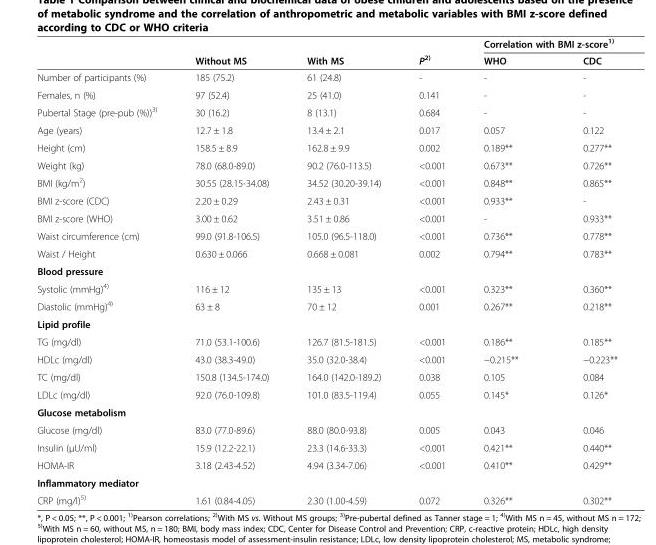table: (36, 36, 616, 505)
table column: (36, 36, 175, 505), (175, 36, 287, 505), (287, 36, 399, 505), (464, 36, 549, 505), (549, 36, 616, 505), (399, 36, 464, 505)
table column header: (36, 36, 616, 68)
table projected row header: (36, 314, 616, 332), (36, 403, 616, 420), (36, 473, 616, 490), (36, 262, 616, 278)
table row: (36, 102, 616, 121), (36, 437, 616, 456), (36, 138, 616, 156), (36, 173, 616, 191), (36, 191, 616, 209), (36, 226, 616, 244), (36, 244, 616, 262), (36, 278, 616, 296), (36, 296, 616, 314), (36, 314, 616, 332), (36, 332, 616, 350), (36, 367, 616, 385), (36, 385, 616, 403), (36, 51, 616, 68), (36, 68, 616, 85), (36, 85, 616, 102), (36, 121, 616, 138), (36, 156, 616, 173), (36, 209, 616, 226), (36, 350, 616, 367), (36, 403, 616, 420), (36, 420, 616, 437), (36, 456, 616, 473), (36, 473, 616, 490), (36, 262, 616, 278), (36, 36, 616, 51), (36, 490, 616, 505)
table spanning cell: (175, 36, 287, 68), (287, 36, 399, 68), (464, 36, 616, 51), (399, 36, 464, 68)
